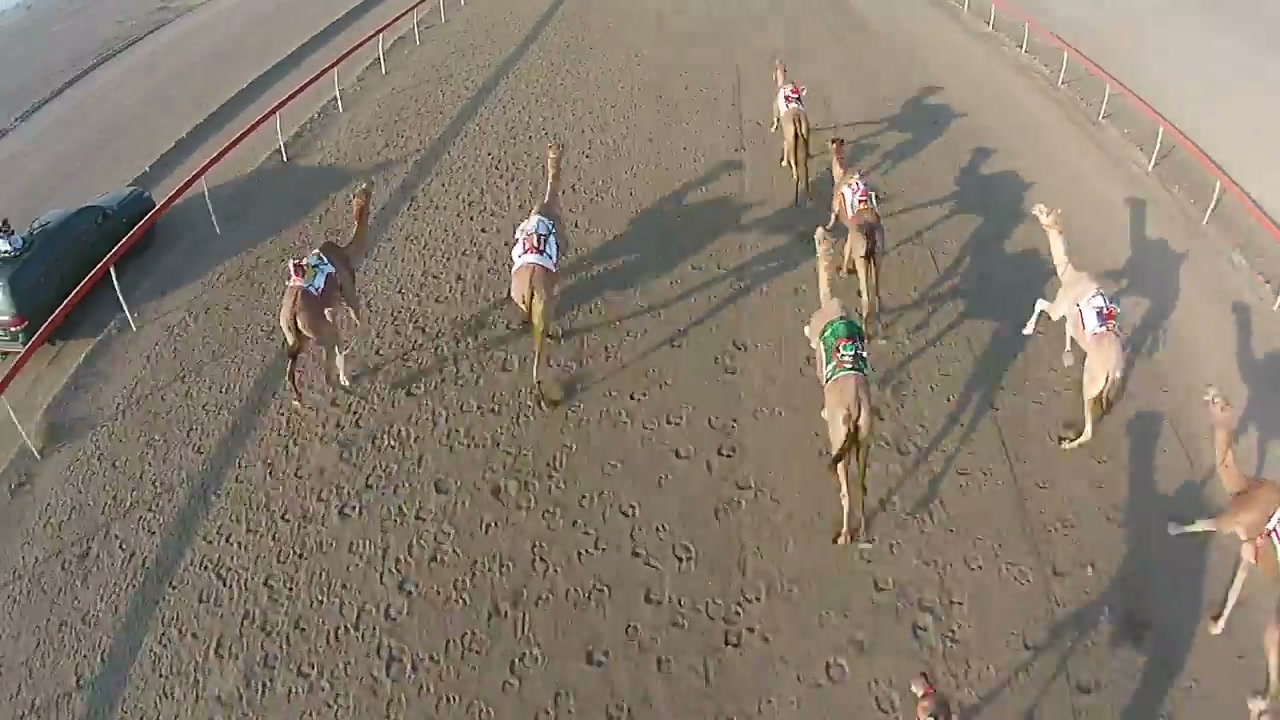animal_foot_print: (193, 286, 808, 719), (819, 417, 1071, 709)
